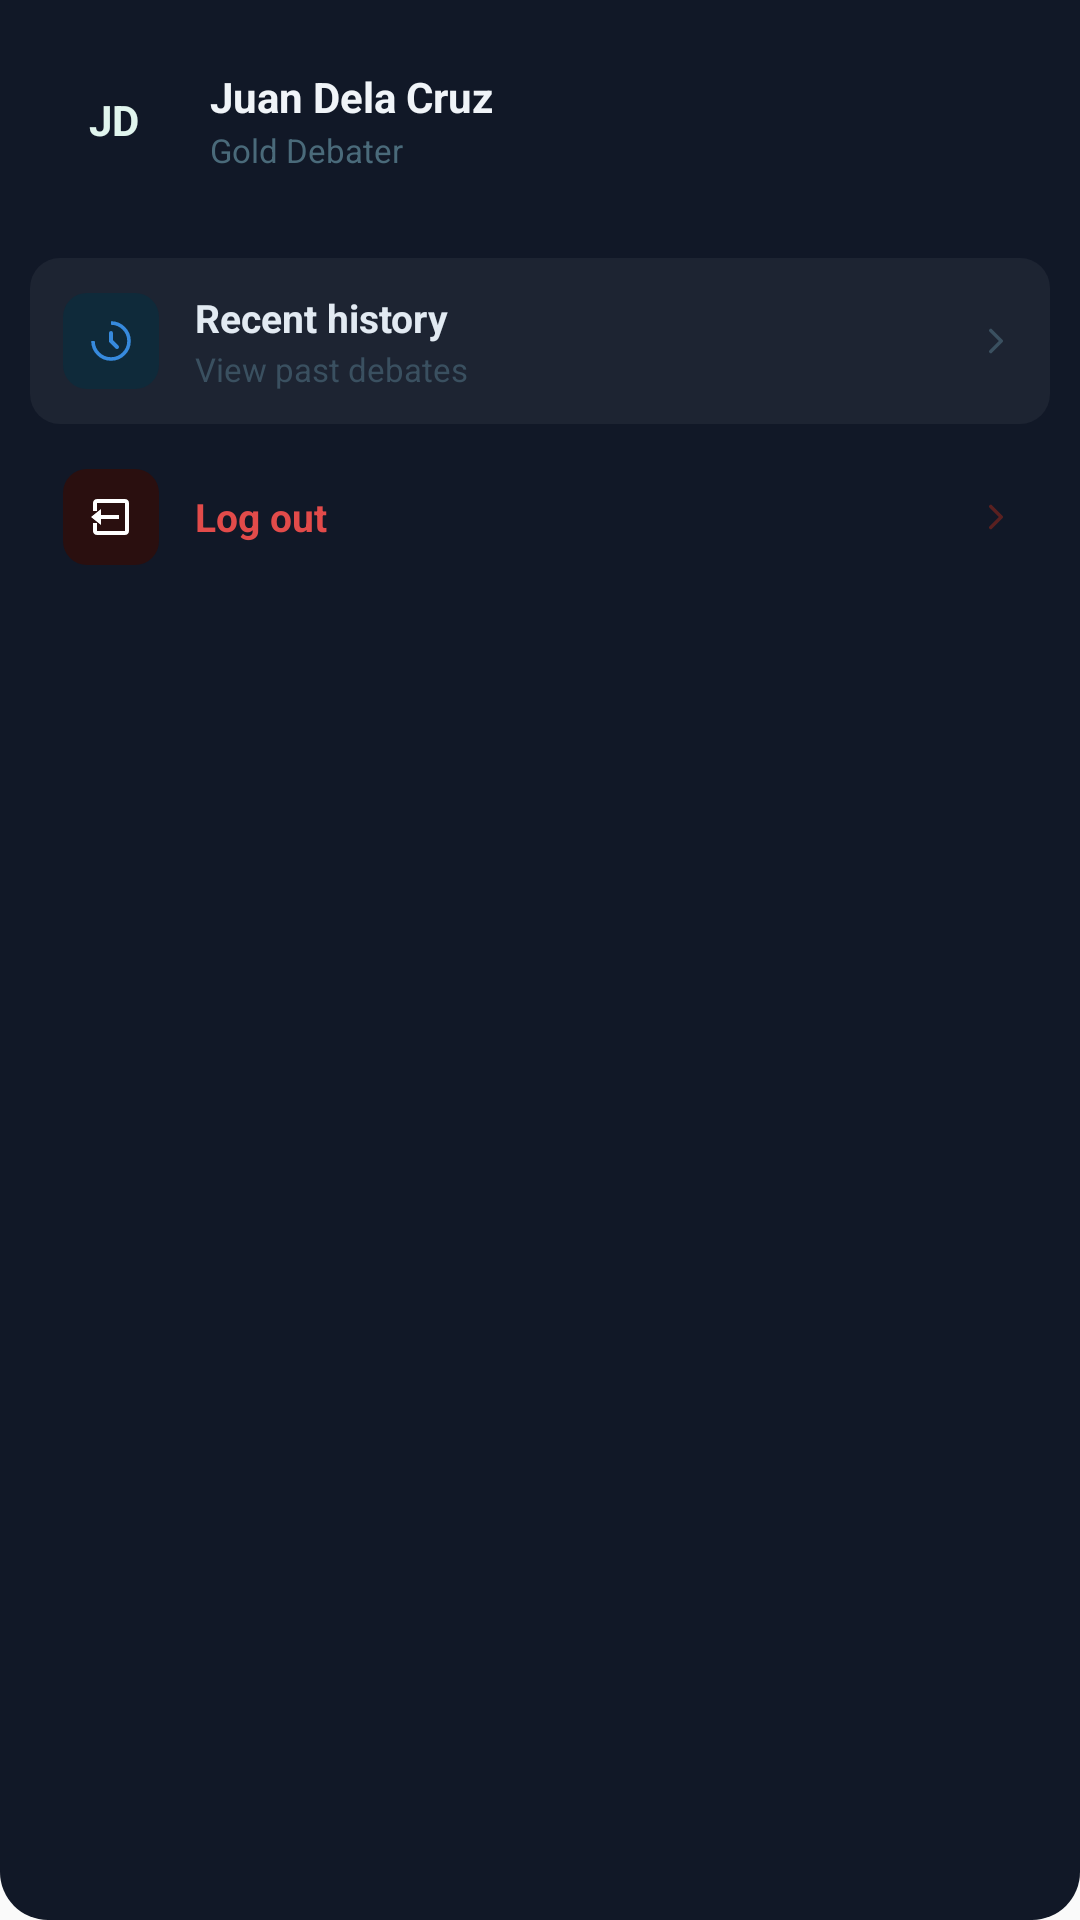

Icon click points for this 1080w x 1920h phone screenshot, format point (x, y):
chevron right: point (996, 341), point (996, 517)
